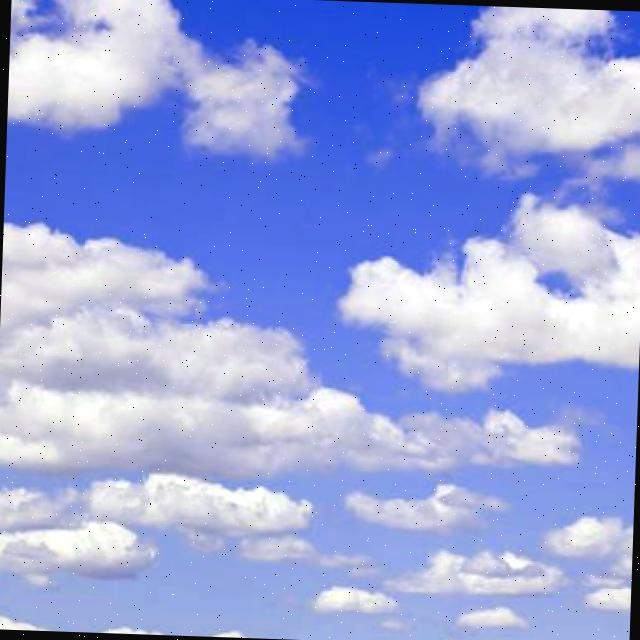Cu: (1, 94, 640, 571)
